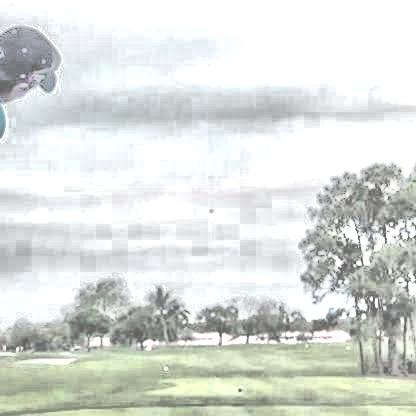golfball: (207, 206, 212, 211)
